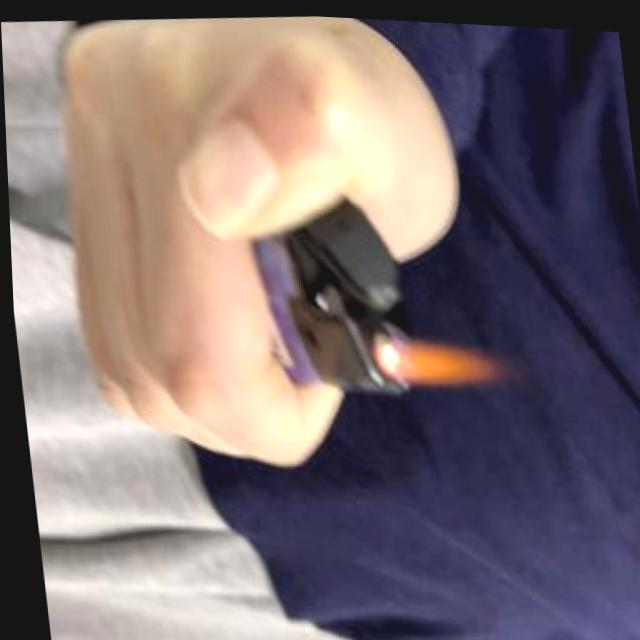fire: (367, 318, 516, 388)
